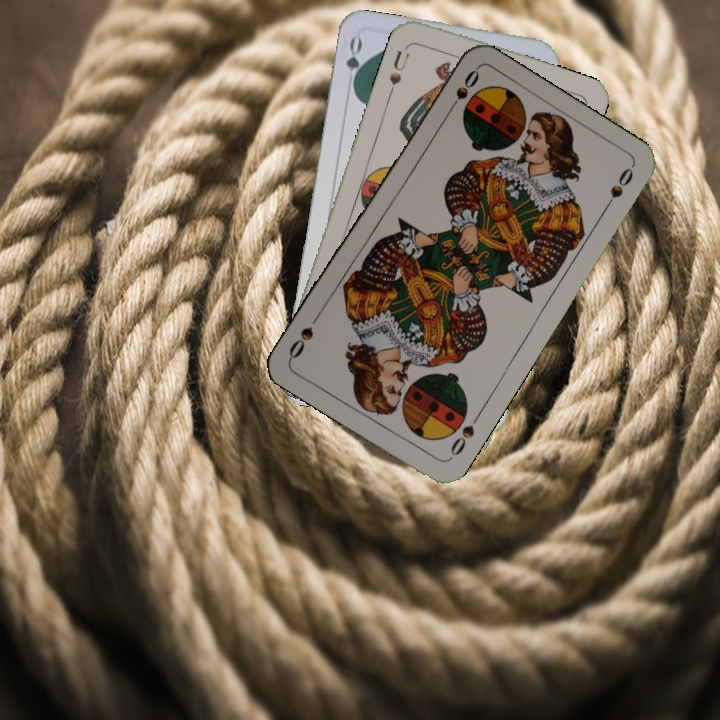GO: (342, 33, 365, 93)
SO: (442, 65, 482, 118), (444, 410, 483, 463)
SU: (384, 40, 414, 88)
